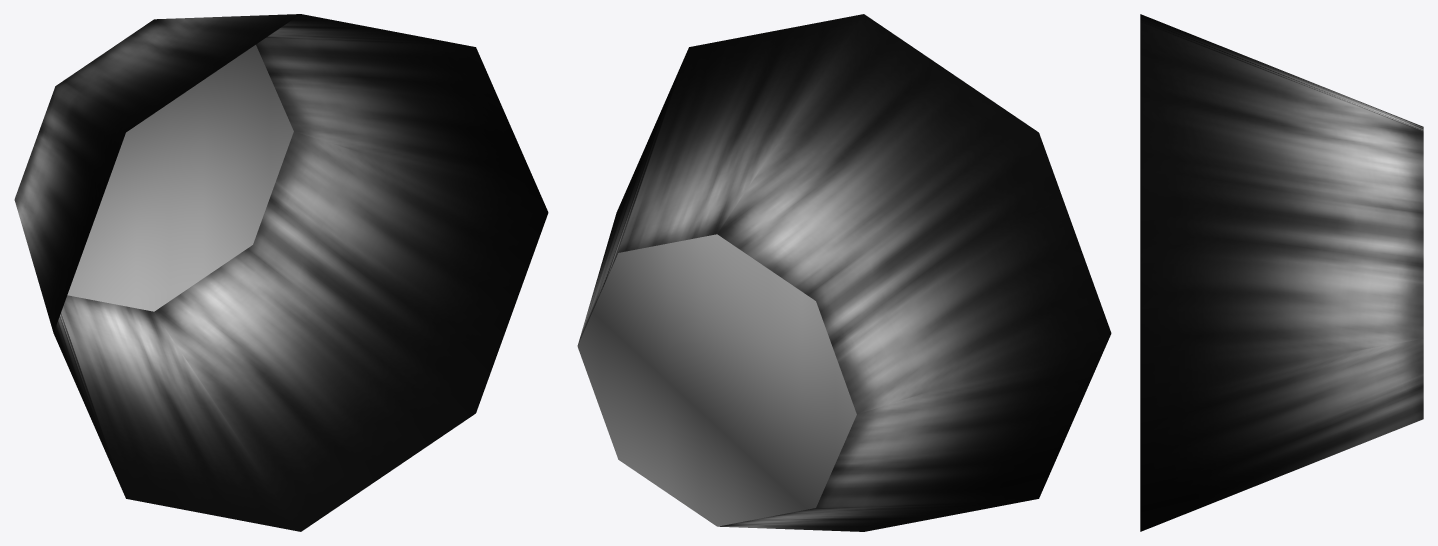
Rendered from Light_Flat_round_lightcone.FBX.
3 renders of one model, left to right at view 1: azimuth 30°, elevation 25°; view 2: azimuth 150°, elevation 25°; view 3: azimuth 270°, elevation 25°, orthographic. The views are drawn at different scales.
Parts seen in each view (by area): view 1: Light_Flat_round_lightcone; view 2: Light_Flat_round_lightcone; view 3: Light_Flat_round_lightcone.
Part boxes in pixels (left/top/right/bottom): Light_Flat_round_lightcone: left=14, top=14, right=548, bottom=531; Light_Flat_round_lightcone: left=577, top=14, right=1111, bottom=531; Light_Flat_round_lightcone: left=1140, top=14, right=1423, bottom=531.
Size of the model in its own units: 52.99 by 52.99 by 27.23.
